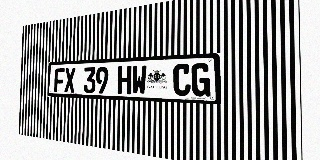3: (84, 67, 96, 93)
9: (96, 66, 108, 94)
C: (173, 64, 191, 96)
F: (54, 68, 65, 92)
G: (191, 63, 210, 97)
H: (117, 66, 132, 94)
W: (132, 65, 147, 95)
X: (64, 68, 75, 93)
